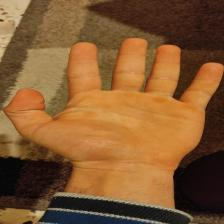five: (10, 39, 220, 162)
